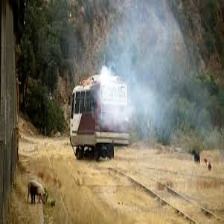smoke: (110, 44, 158, 125)
